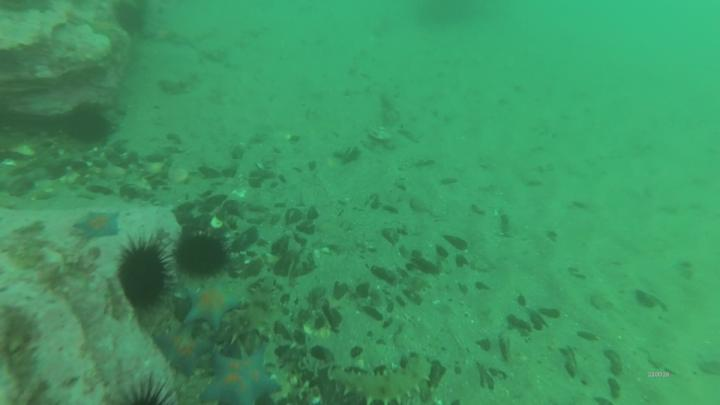echinus: (122, 245, 165, 302), (174, 237, 227, 277), (65, 109, 108, 143), (117, 4, 146, 34)
holothurian: (325, 359, 434, 405), (214, 281, 278, 340)
starfish: (200, 347, 280, 404), (156, 328, 208, 377), (188, 286, 242, 329), (71, 212, 121, 241)
